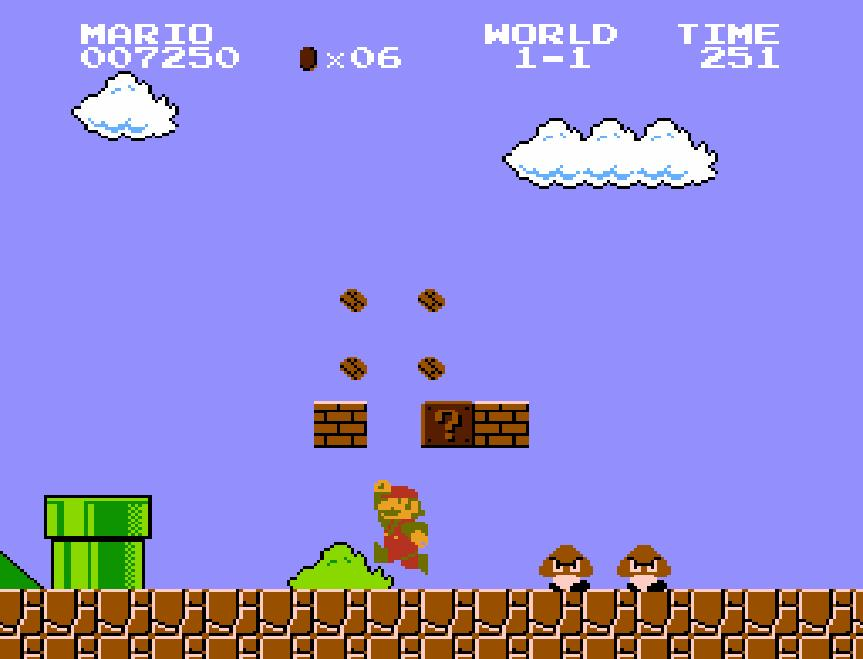big_mario: (372, 478, 430, 576)
